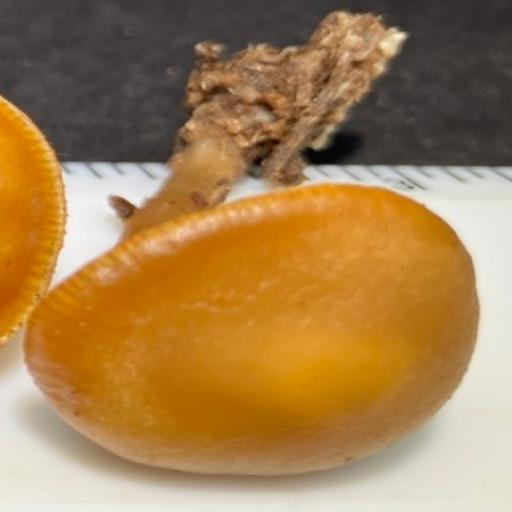Funeral Bell: (0, 22, 489, 475)
